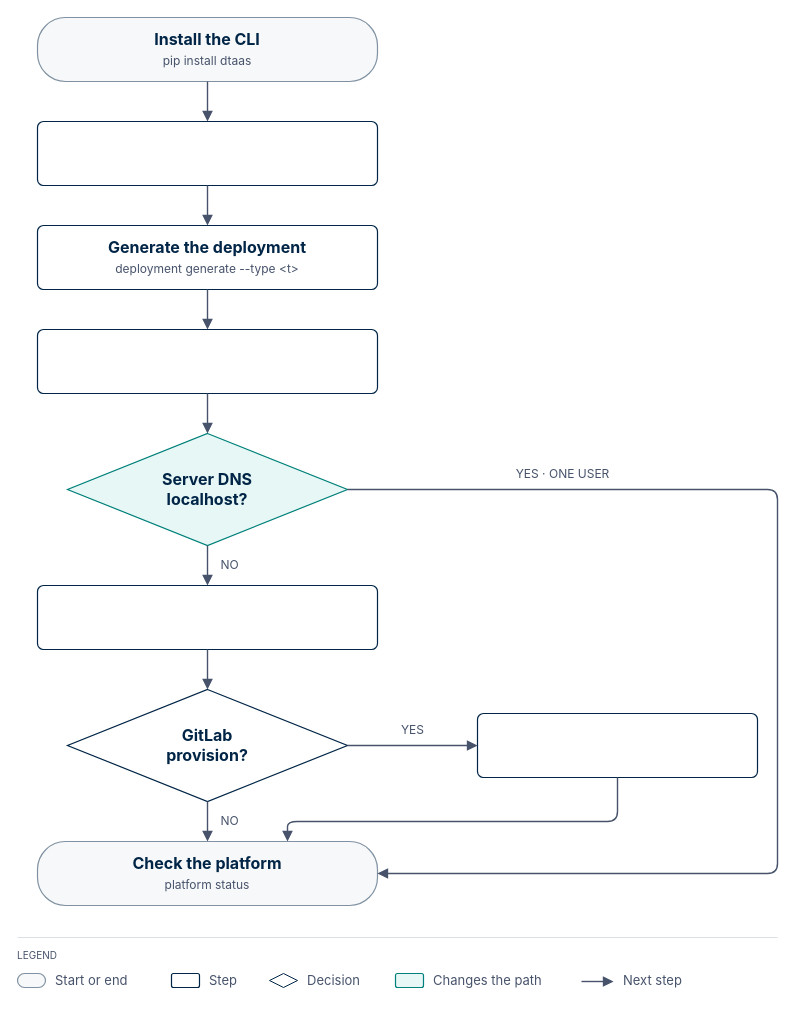
The diagram is 805 pixels wide and 1009 high, and some of its shapes have lost their labels. Each missing label, with the centre of its shape:
Add users user add --file users.csv: (207,617)
GitLab accounts accounts · PATs · tokens file: (617,745)
Start the platform platform install: (207,361)
Write the config generate · edit dtaas.toml · validate: (207,153)
